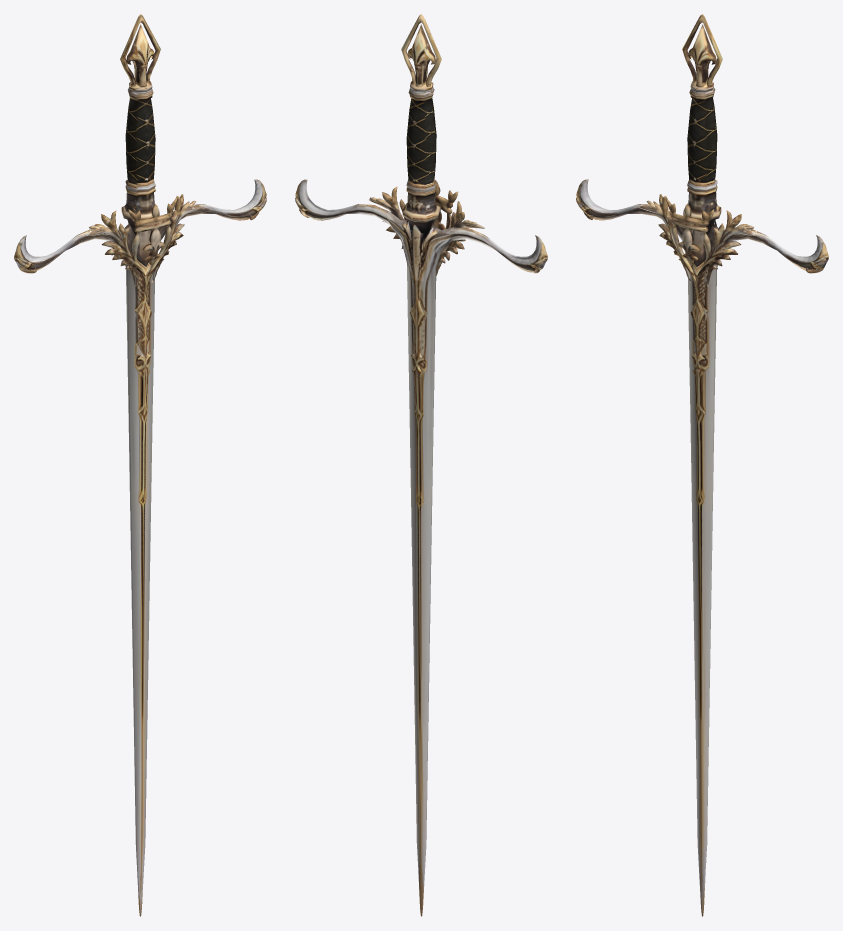
The model's file is l4-rapier+3d+model.glb.
The picture shows the model from 3 angles, left to right: view 1: azimuth 30°, elevation 25°; view 2: azimuth 150°, elevation 25°; view 3: azimuth 330°, elevation 25°; orthographic projection.
Parts seen in each view (by area): view 1: tripo_node_4fe7ac86-c6d4-4edc-b8bf-48a005453efb; view 2: tripo_node_4fe7ac86-c6d4-4edc-b8bf-48a005453efb; view 3: tripo_node_4fe7ac86-c6d4-4edc-b8bf-48a005453efb.
Boxes of the visible parts, box(x1,y1,x2,y2) form: tripo_node_4fe7ac86-c6d4-4edc-b8bf-48a005453efb: box(14, 14, 266, 916); tripo_node_4fe7ac86-c6d4-4edc-b8bf-48a005453efb: box(295, 14, 547, 916); tripo_node_4fe7ac86-c6d4-4edc-b8bf-48a005453efb: box(576, 14, 828, 916).
Size of the model in its own units: 0.2925 by 0.9995 by 0.0513.
Materials: 1 (1 with a texture image).
